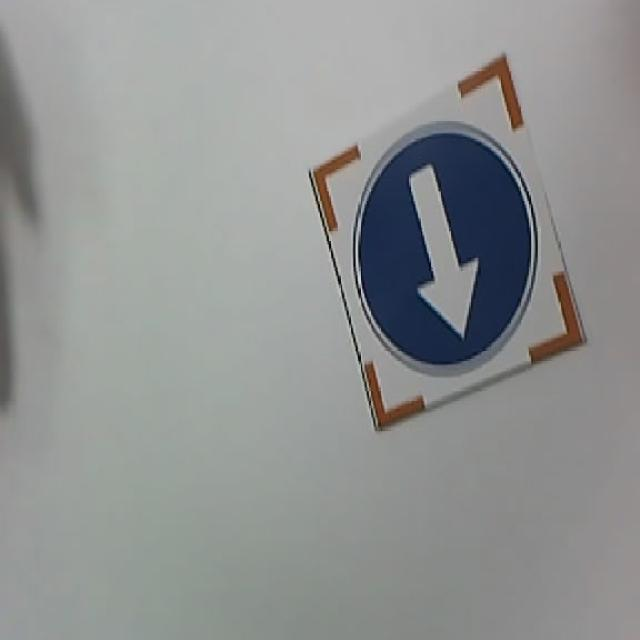straight: (308, 49, 587, 434)
